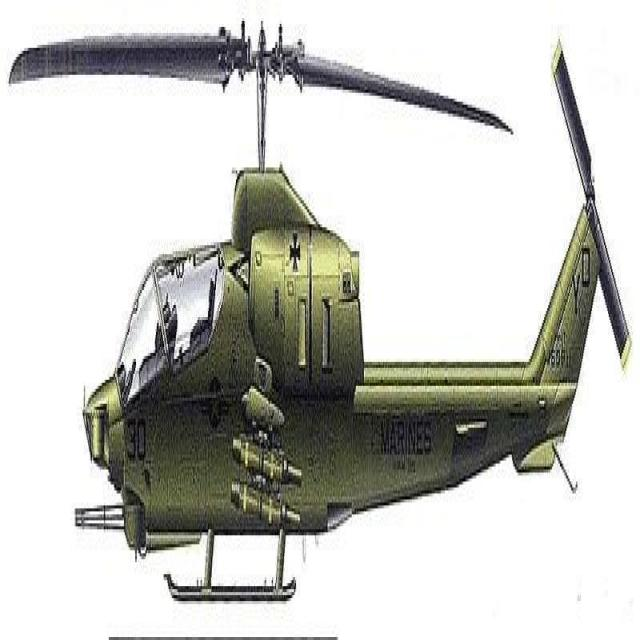MIL_HELO: (2, 0, 639, 632)
